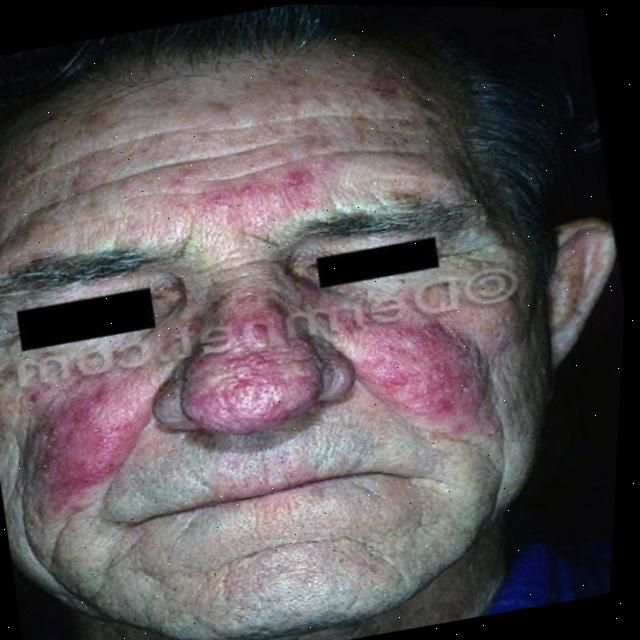Rosacea: (16, 291, 492, 513), (149, 105, 350, 248)
